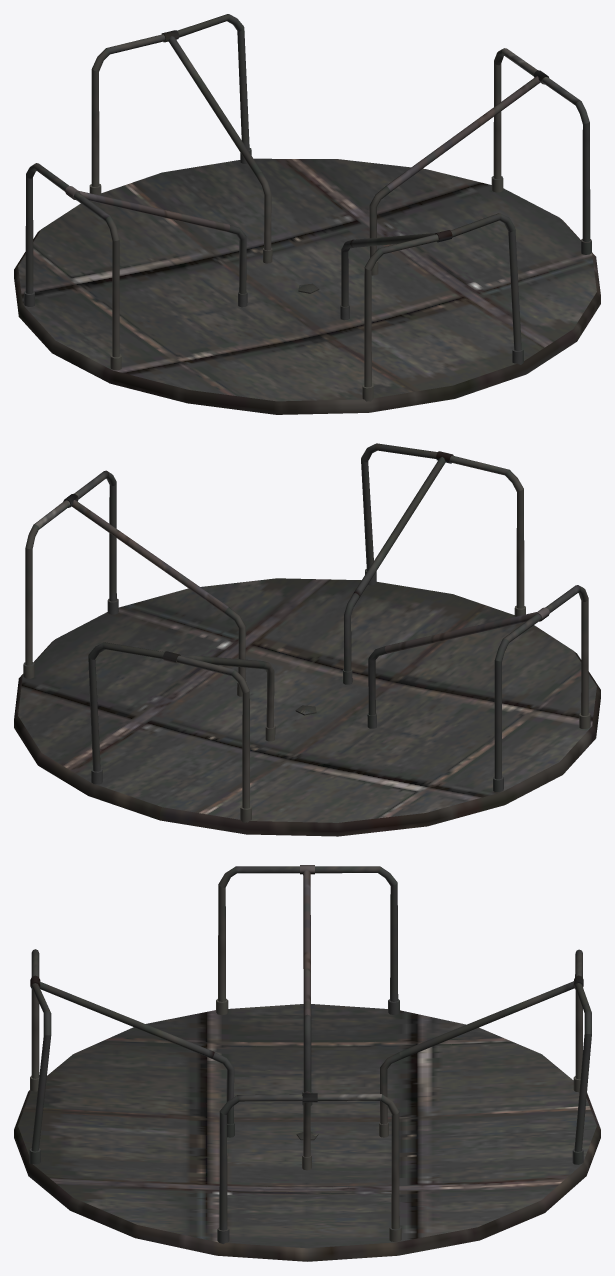
Rendered from Spinner.fbx.
The picture shows the model from 3 angles, top to bottom: view 1: azimuth 30°, elevation 25°; view 2: azimuth 150°, elevation 25°; view 3: azimuth 270°, elevation 25°; orthographic projection.
Parts seen in each view (by area): view 1: Spinner.001; view 2: Spinner.001; view 3: Spinner.001.
Part boxes in pixels (x1,y1,x2,y2): Spinner.001: (14, 14, 600, 414); Spinner.001: (14, 443, 600, 836); Spinner.001: (14, 865, 600, 1261).
Bounding box in the file's own units: 2.86 × 1.04 × 2.86.
1 material, 1 textured.
